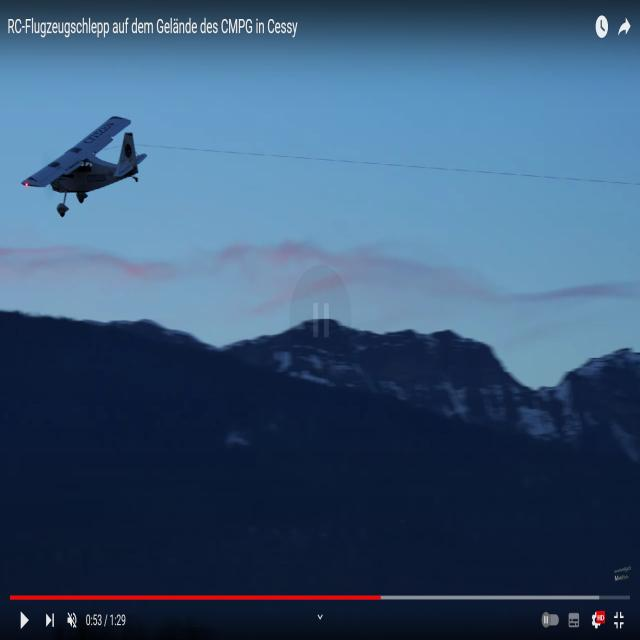iha: (0, 148, 51, 180)
